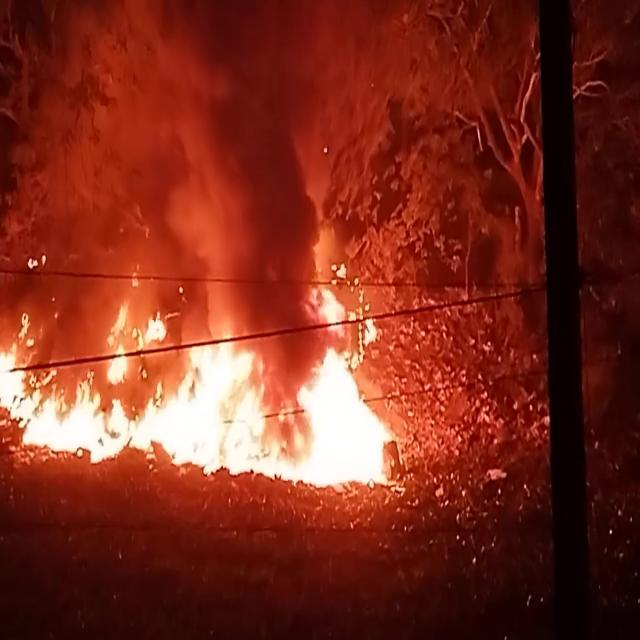Fire: (0, 283, 405, 481)
Smoke: (0, 2, 380, 314)
